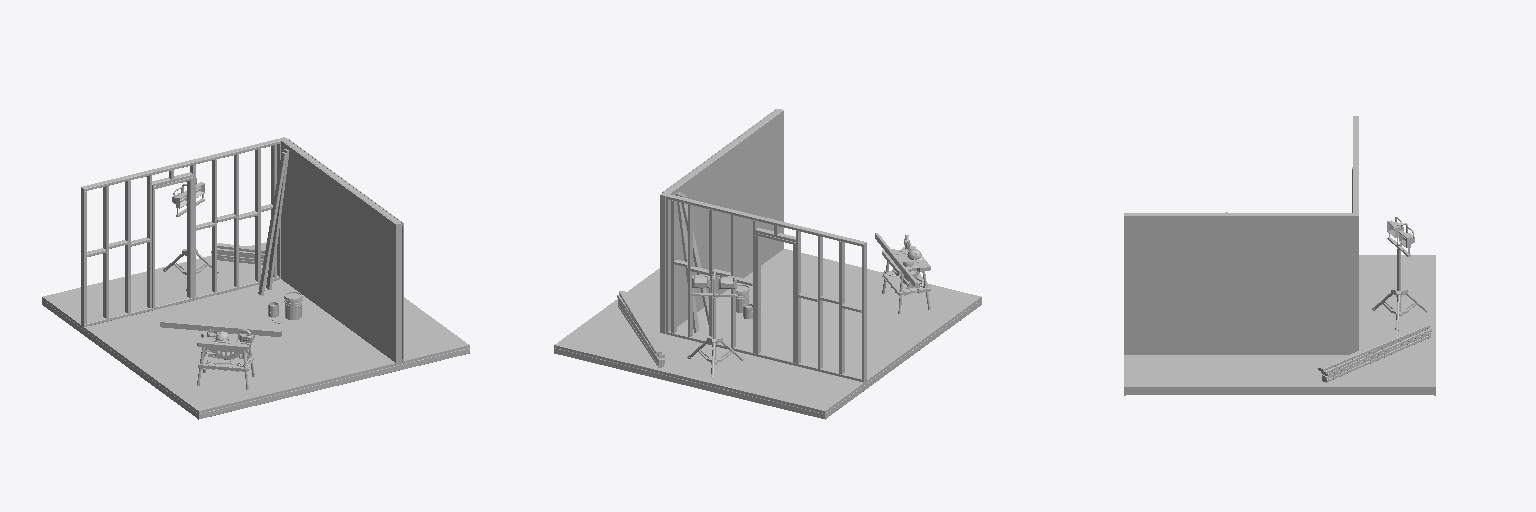
Rendered from workshopSet.obj.
The picture shows the model from 3 angles: view 1: azimuth 30°, elevation 25°; view 2: azimuth 150°, elevation 25°; view 3: azimuth 270°, elevation 25°; orthographic projection.
Parts seen in each view (by area): view 1: Ground, Drywall_Panel, Stud_Frame, Stud_Pile, Stud_1; view 2: Ground, Stud_Frame, Drywall_Panel, Stud_Pile, Legs_Low, Light_Heads_Low; view 3: OSB_Panel, Ground, Stud_Frame, Stud_Pile, Legs_Low.
Boxes of the visible parts, box(x1,y1,x2,y2) form: Ground: box(42, 242, 469, 419); Drywall_Panel: box(281, 141, 396, 362); Stud_Frame: box(81, 137, 402, 362); Stud_Pile: box(211, 149, 289, 295); Stud_1: box(160, 321, 281, 336); Ground: box(554, 249, 981, 419); Stud_Frame: box(660, 109, 866, 382); Drywall_Panel: box(669, 110, 783, 326); Stud_Pile: box(617, 192, 708, 367); Legs_Low: box(687, 293, 743, 378); Light_Heads_Low: box(692, 271, 736, 296); OSB_Panel: box(1124, 216, 1352, 354); Ground: box(1124, 255, 1435, 395); Stud_Frame: box(1124, 116, 1358, 352); Stud_Pile: box(1318, 323, 1431, 382); Legs_Low: box(1372, 237, 1427, 330).
Bounding box in the file's own units: 5 × 2.59 × 5.